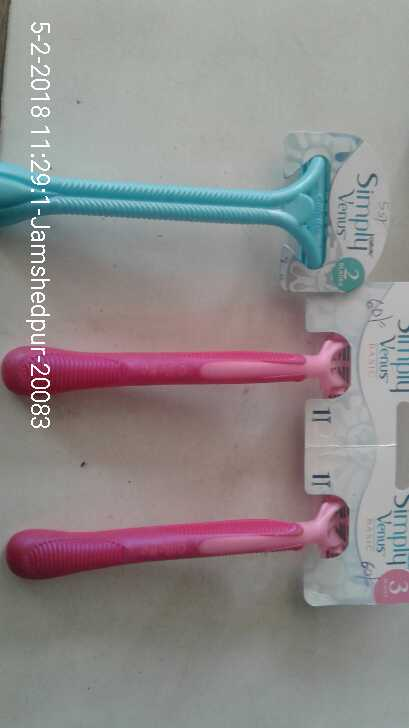reject: (92, 119, 308, 294)
